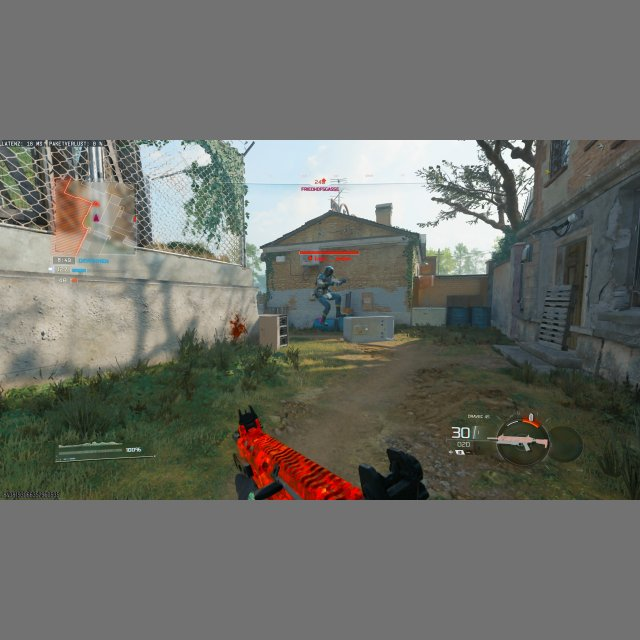head: (324, 266, 333, 277)
player: (312, 266, 346, 325)
